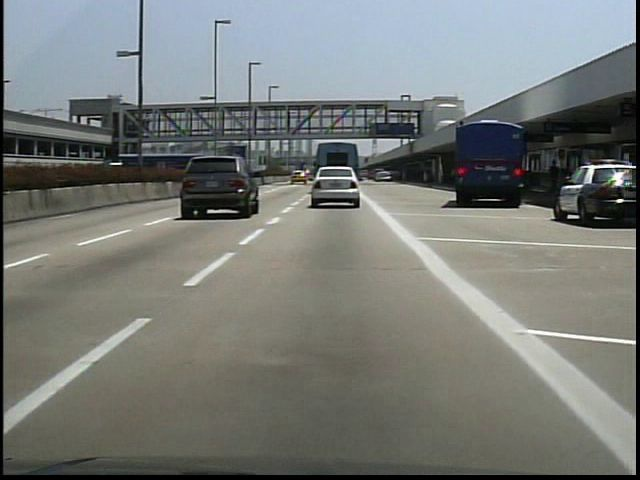person: (544, 156, 561, 194)
